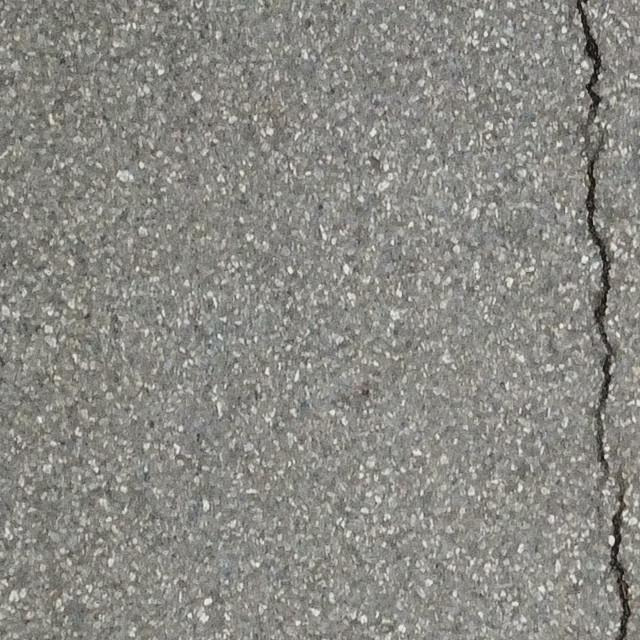LongitudinalCrack: (575, 1, 640, 640)
